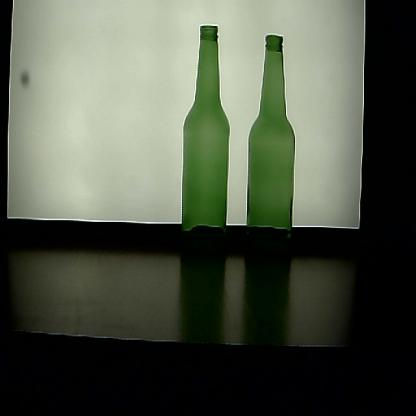Can: (178, 19, 233, 270), (243, 33, 299, 272)
